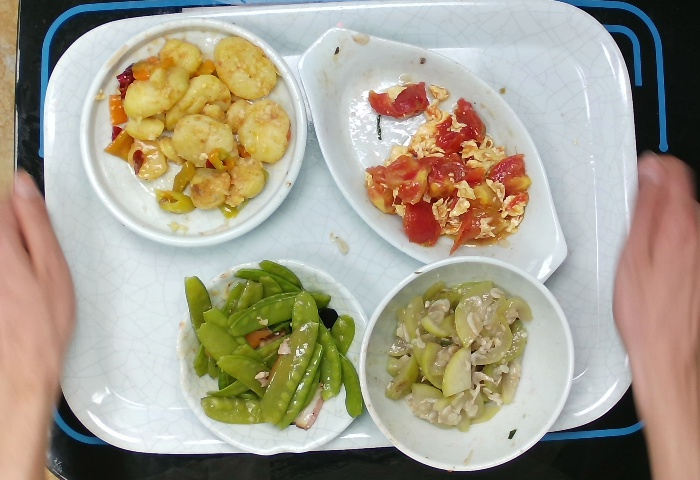JYsf-Ao_Yuan_Wan: (169, 257, 376, 458)
JYsf-Fan_Wan: (357, 256, 581, 479)
JYsf-Xiao_Yuan_Pan: (64, 15, 309, 252)
JYsf-Yu_Pan: (291, 18, 581, 304)
